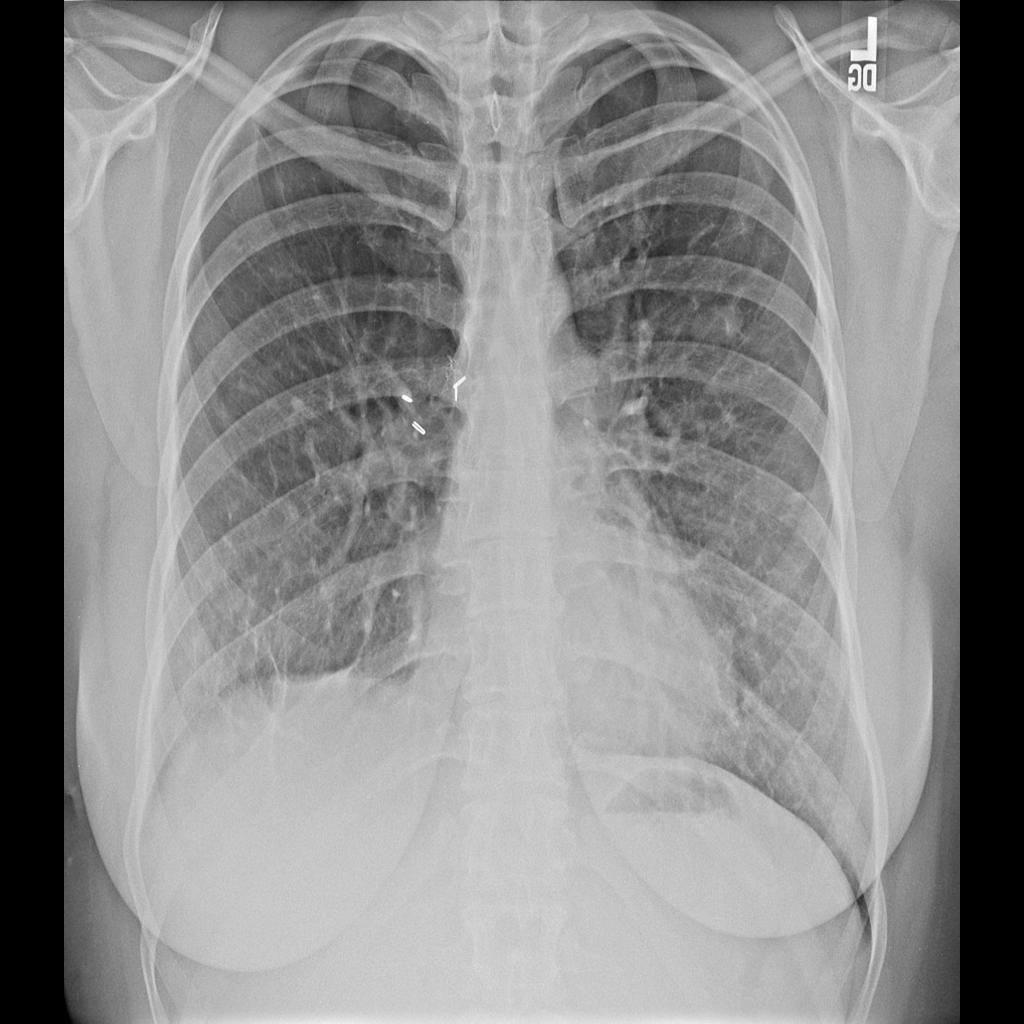Nodule: (693, 308, 751, 349)
